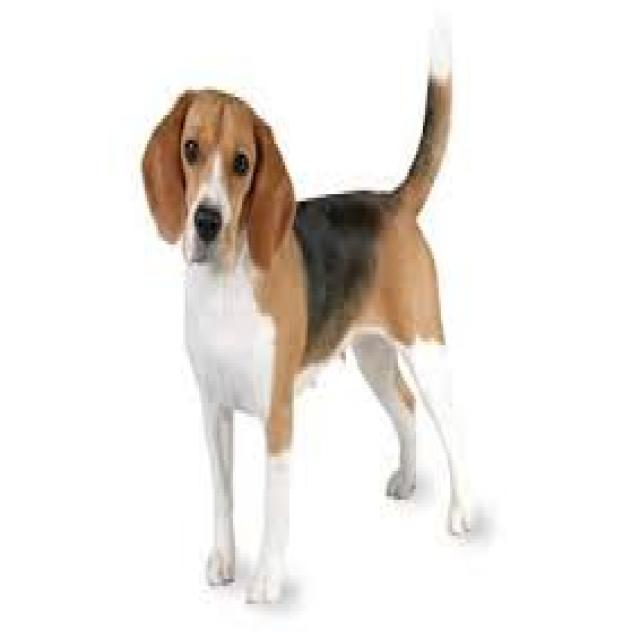Dog: (139, 0, 496, 610)
